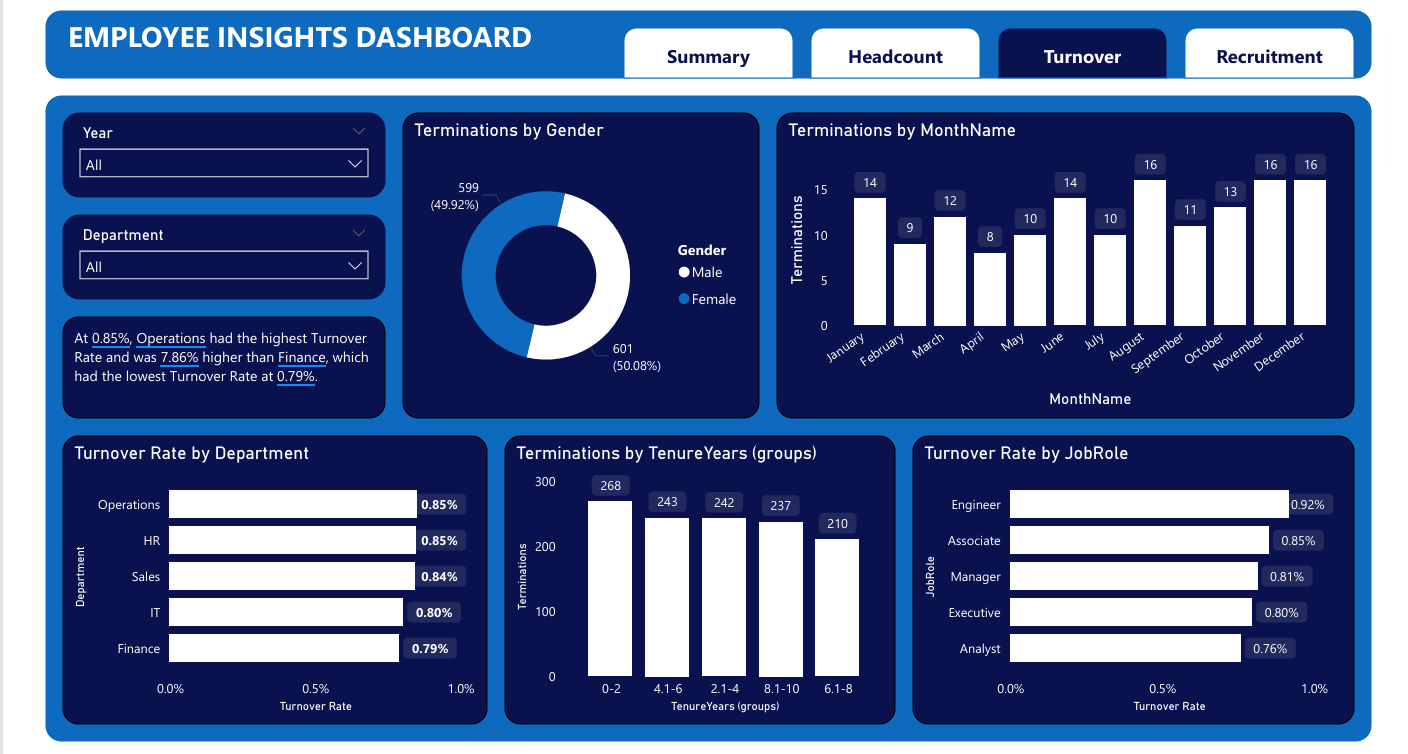

This screenshot's page, from the dashboard's own definition file:
{"tool":"powerbi","page":{"name":"Turnover","canvas":[1280,720],"ordinal":2},"visuals":[{"type":"group","id":"g1","title":"Group 1","box":[16,16,1248,384],"z":0},{"type":"shape","box":[16,16,1248,64],"z":0,"group":"g1"},{"type":"textbox","box":[32,16,496,64],"z":1000,"group":"g1"},{"type":"shape","box":[16,96,1248,608],"z":1000},{"type":"shape","box":[560,32,160,48],"z":2000,"group":"g1"},{"type":"clusteredBarChart","fields":{"Category":["Employee_Master.Department"],"Y":["Employee_Master.Turnover Rate"]},"box":[32,416,400,272],"z":2000},{"type":"clusteredColumnChart","box":[100,100,300,300],"z":3000,"group":"g1"},{"type":"columnChart","fields":{"Category":["Date_Dim.MonthName"],"Y":["Employee_Master.Terminations"]},"box":[704,112,544,288],"z":3000},{"type":"shape","box":[736,32,160,48],"z":4000,"group":"g1"},{"type":"clusteredColumnChart","fields":{"Y":["Employee_Master.Terminations"],"Category":["Employee_Master.TenureYears (groups)"]},"box":[448,416,368,272],"z":4000},{"type":"shape","box":[912,32,160,48],"z":5000,"group":"g1"},{"type":"donutChart","fields":{"Category":["Employee_Master.Gender"],"Y":["Employee_Master.Terminations"]},"box":[352,112,336,288],"z":5000},{"type":"shape","box":[1088,32,160,48],"z":6000,"group":"g1"},{"type":"clusteredBarChart","fields":{"Y":["Employee_Master.Turnover Rate"],"Category":["Employee_Master.JobRole"]},"box":[832,416,416,272],"z":6000},{"type":"slicer","fields":{"Values":["Employee_Master.Department"]},"box":[32,208,304,80],"z":7000},{"type":"textbox","box":[32,304,304,96],"z":8000},{"type":"slicer","fields":{"Values":["Date_Dim.Year"]},"box":[32,112,304,80],"z":9000}]}

Visuals, with their boxes on the page's 1280x720 design canvas (x1, y1, x2, y2). These are canvas units, not pixel positions in the 1408x754 screenshot, which may show the page scaled, cropped or inside an application window:
"Group 1" group: bbox(16, 16, 1264, 400)
shape: bbox(16, 16, 1264, 80)
textbox: bbox(32, 16, 528, 80)
shape: bbox(16, 96, 1264, 704)
shape: bbox(560, 32, 720, 80)
clusteredBarChart - Employee_Master.Department x Employee_Master.Turnover Rate: bbox(32, 416, 432, 688)
clusteredColumnChart: bbox(100, 100, 400, 400)
columnChart - Date_Dim.MonthName x Employee_Master.Terminations: bbox(704, 112, 1248, 400)
shape: bbox(736, 32, 896, 80)
clusteredColumnChart - Employee_Master.Terminations x Employee_Master.TenureYears (groups): bbox(448, 416, 816, 688)
shape: bbox(912, 32, 1072, 80)
donutChart - Employee_Master.Gender x Employee_Master.Terminations: bbox(352, 112, 688, 400)
shape: bbox(1088, 32, 1248, 80)
clusteredBarChart - Employee_Master.Turnover Rate x Employee_Master.JobRole: bbox(832, 416, 1248, 688)
slicer - Employee_Master.Department: bbox(32, 208, 336, 288)
textbox: bbox(32, 304, 336, 400)
slicer - Date_Dim.Year: bbox(32, 112, 336, 192)
